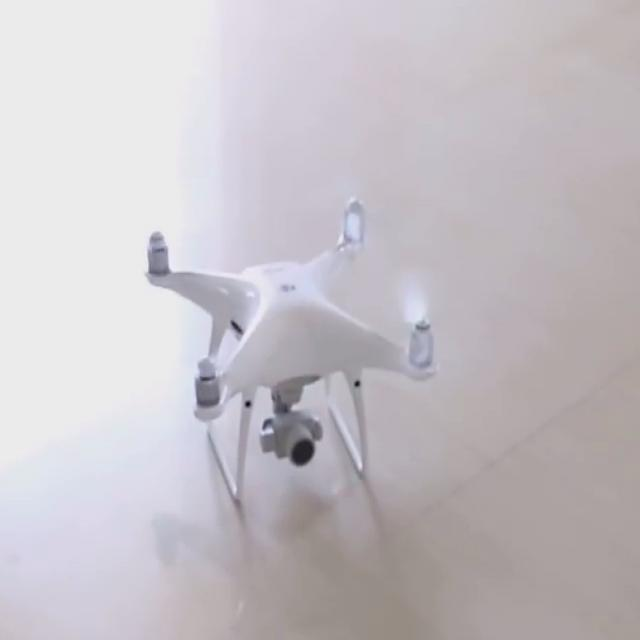drone: (126, 172, 463, 457)
